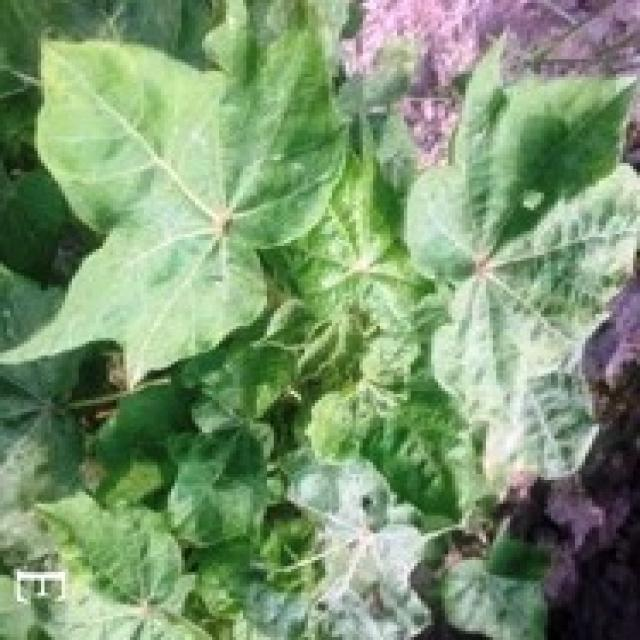Leaf Curl Virus: (170, 119, 547, 585)
